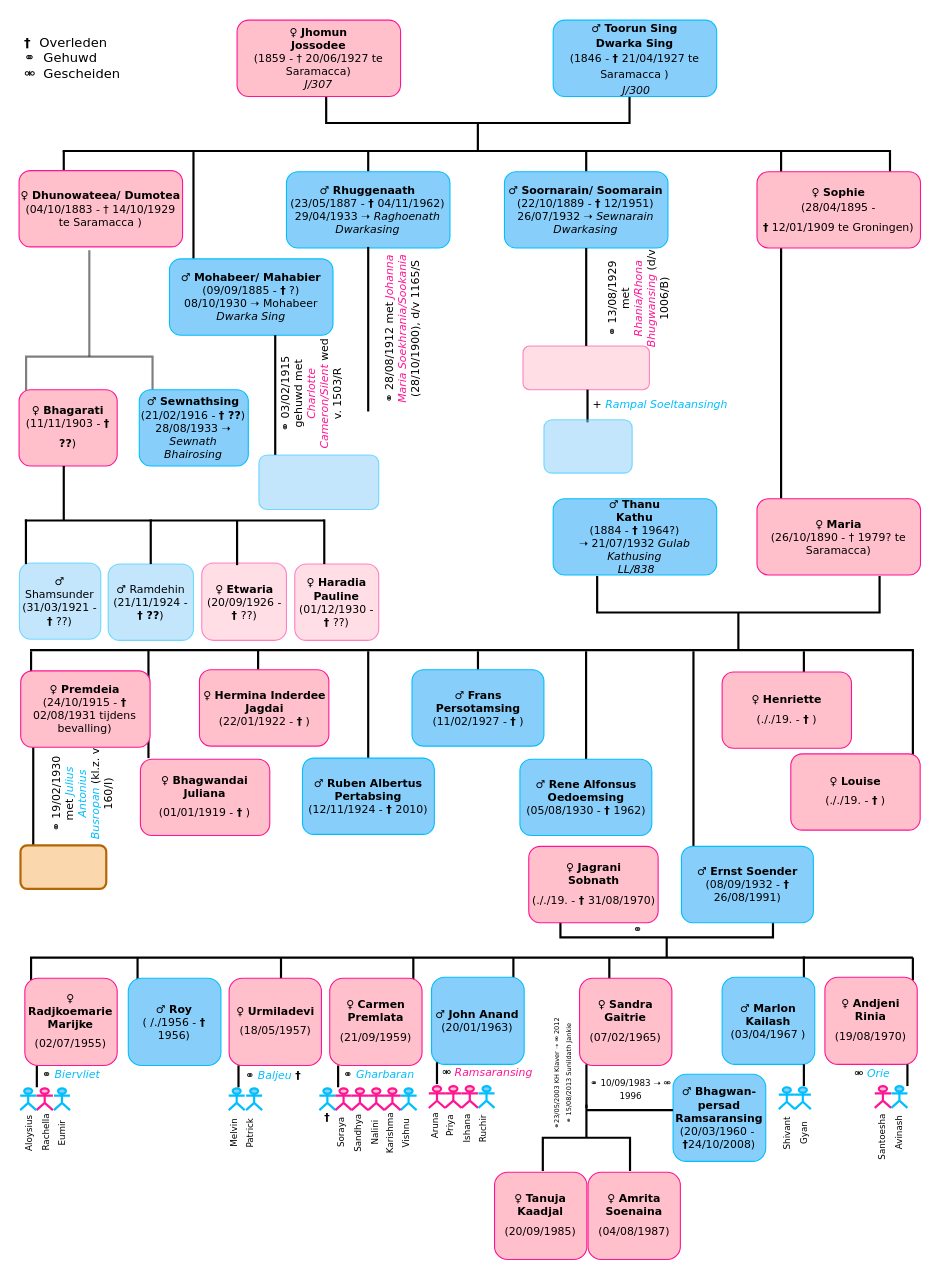
The diagram is 940 pixels wide and 1279 high, and some of its shapes have lost their labels. Here are the shapes that lost their labels. From the top down, the centre of each, then its label:
(x=477, y=122): ⚭ 09/08/1900 ➝ achternaam Dwarkasing
(x=88, y=356): ⚭ 08/04/1914 met Bhairosing (1527/R)
(x=585, y=367): ♀ Soemintra (05/03/1914 - † ?? )
(x=587, y=446): ♂ André Soeltaansingh (?? - † ?? )
(x=318, y=482): ♂ Arthur Marius (25/08/1925 - † ??)
(x=737, y=612): ⚭ 15/12/1927 ➝ kinderen gewettigd Kathusing
(x=63, y=866): † 02/08/1931 (levenloos)
